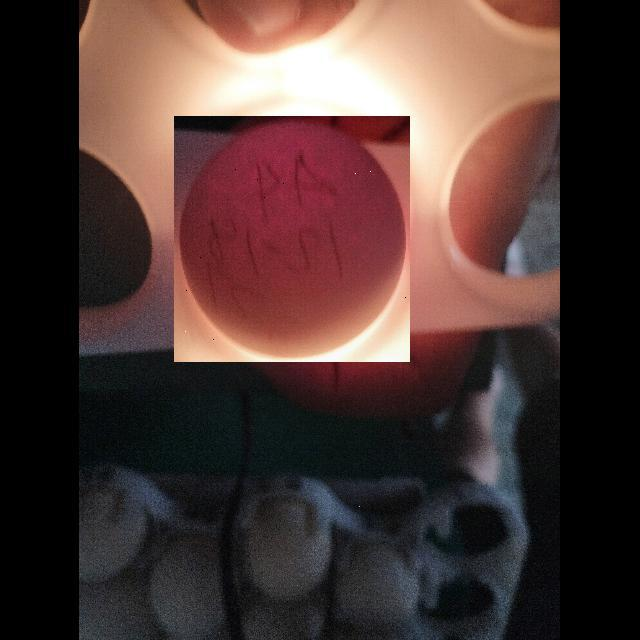Infertile: (174, 116, 410, 362)
